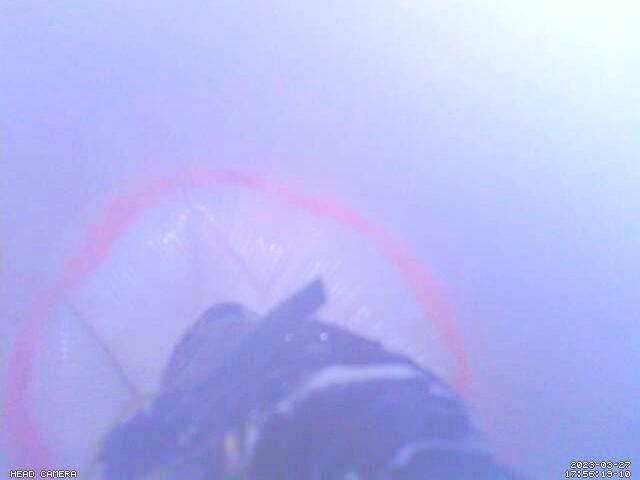head: (0, 165, 472, 480)
